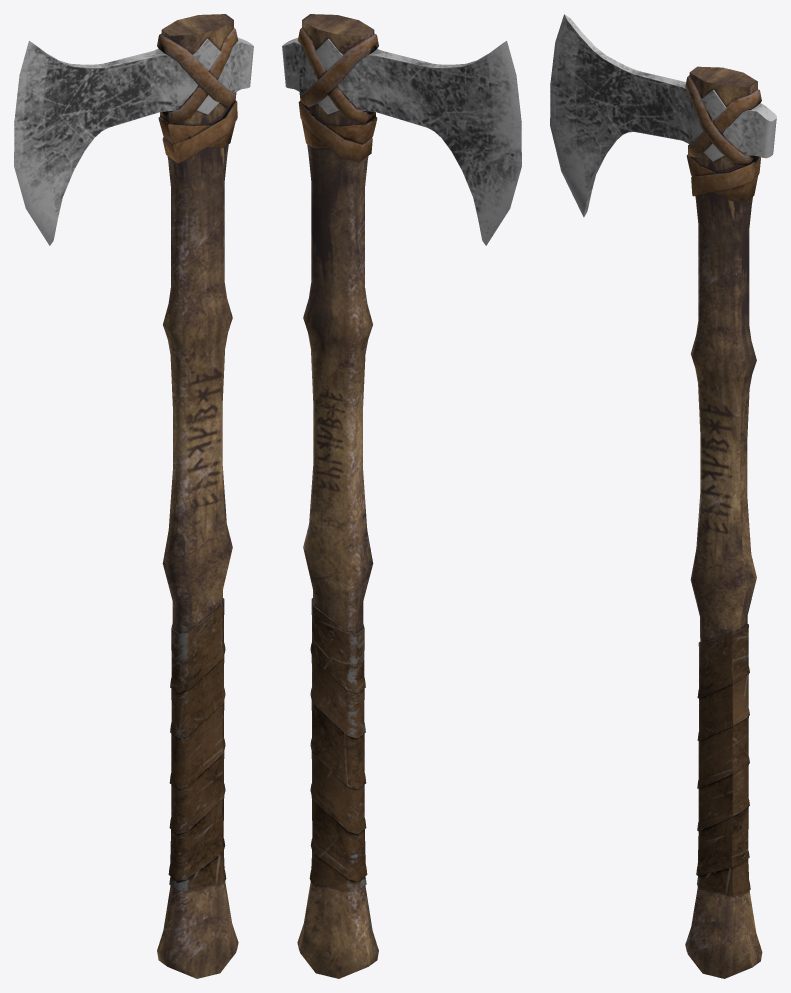
Rendered from axe_old.glb.
3 views of the same model, side by side, from view 1: azimuth 30°, elevation 25°; view 2: azimuth 150°, elevation 25°; view 3: azimuth 330°, elevation 25° (orthographic). The views are drawn at different scales.
Parts seen in each view (by area): view 1: Cube.003; view 2: Cube.003; view 3: Cube.003.
Part boxes in pixels (left/top/right/bottom): Cube.003: left=14, top=14, right=253, bottom=978; Cube.003: left=282, top=14, right=521, bottom=978; Cube.003: left=550, top=14, right=776, bottom=978.
Bounding box in the file's own units: 0.513 × 2 × 0.1003.
Materials: 1 (1 with a texture image).
